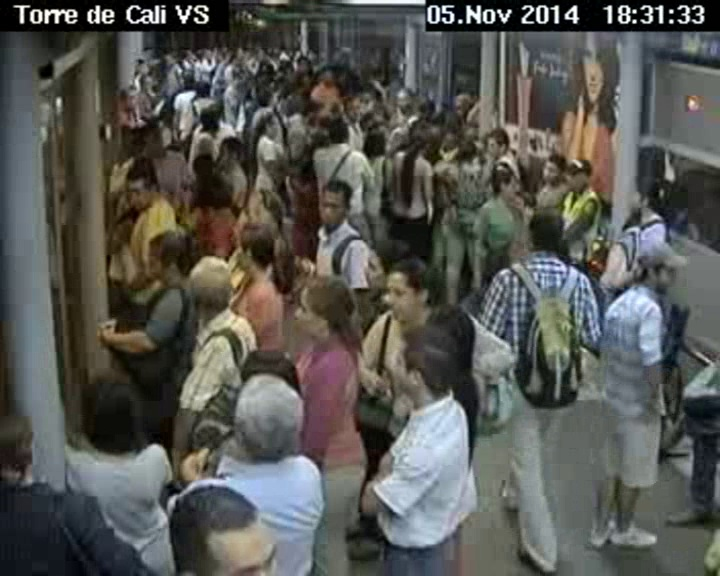person: (160, 476, 301, 576), (234, 364, 316, 473), (72, 371, 153, 461), (390, 315, 465, 409), (285, 272, 357, 343), (380, 255, 439, 323), (133, 226, 193, 285), (1, 410, 45, 490), (180, 254, 233, 320), (621, 170, 682, 221), (632, 235, 684, 292), (233, 222, 278, 283), (513, 207, 563, 258), (314, 177, 353, 236), (118, 167, 162, 210), (189, 149, 226, 191), (359, 116, 390, 158), (566, 153, 594, 196), (401, 124, 439, 153), (486, 162, 515, 199), (256, 102, 282, 141), (483, 128, 515, 158), (452, 136, 482, 167), (324, 114, 352, 144), (117, 83, 139, 119), (195, 106, 225, 132), (542, 150, 567, 181), (219, 135, 242, 160), (318, 65, 339, 87), (193, 78, 212, 101)
